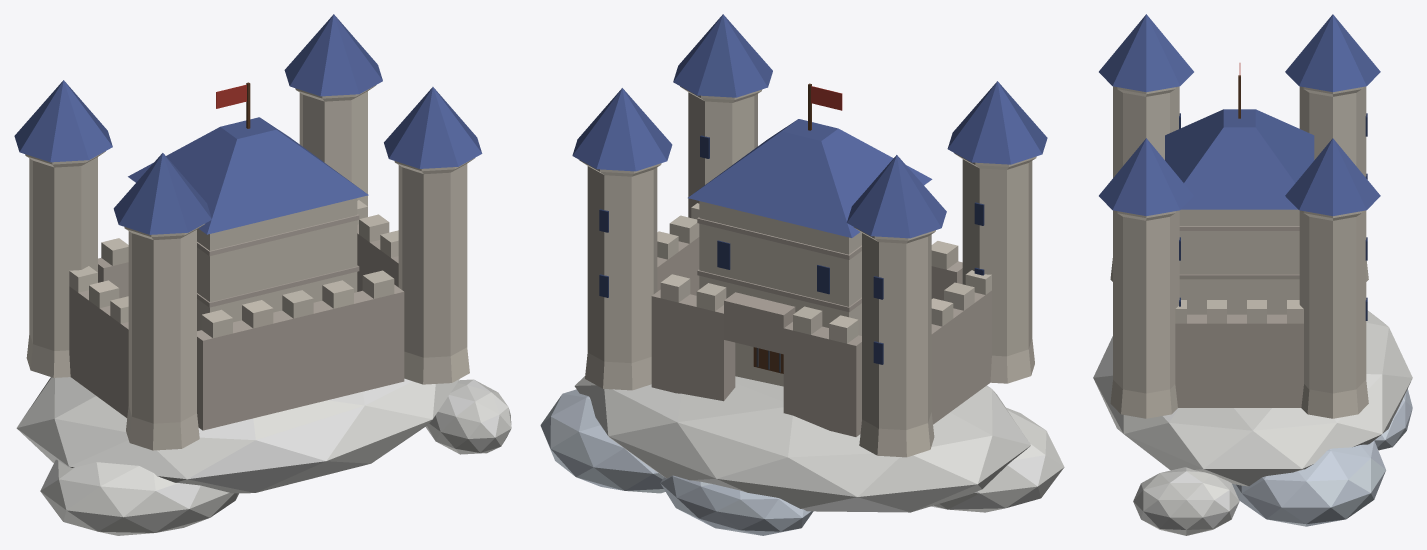
Rendered from Decor_Beanstalk_CloudCastle.fbx.
The picture shows the model from 3 angles, left to right: view 1: azimuth 30°, elevation 25°; view 2: azimuth 150°, elevation 25°; view 3: azimuth 270°, elevation 25°; orthographic projection. The views are drawn at different scales.
Parts seen in each view (by area): view 1: CloudCastle_Body; view 2: CloudCastle_Body; view 3: CloudCastle_Body.
Boxes of the visible parts, bbox=[...] form: CloudCastle_Body: bbox=[14, 14, 511, 535]; CloudCastle_Body: bbox=[540, 14, 1064, 535]; CloudCastle_Body: bbox=[1093, 14, 1412, 535].
Size of the model in its own units: 36 by 31 by 24.
